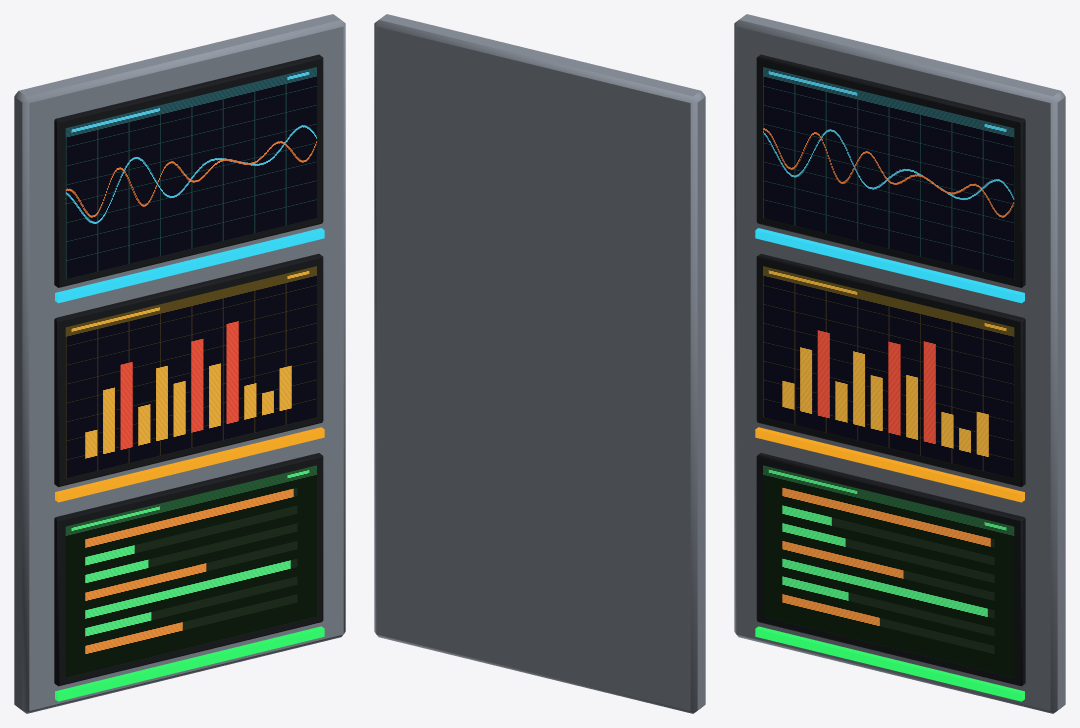
File: display_triple_stack.glb
3 views of the same model, side by side, from view 1: azimuth 30°, elevation 25°; view 2: azimuth 150°, elevation 25°; view 3: azimuth 330°, elevation 25° (orthographic).
Visible parts, largest first — view 1: display_triple_stack; view 2: display_triple_stack; view 3: display_triple_stack.
Part boxes in pixels (x1,y1,x2,y2): display_triple_stack: (14,14,345,713); display_triple_stack: (374,14,705,713); display_triple_stack: (734,14,1065,713).
Bounding box in the file's own units: 0.85 × 1.55 × 0.0825.
8 materials, 3 textured.
